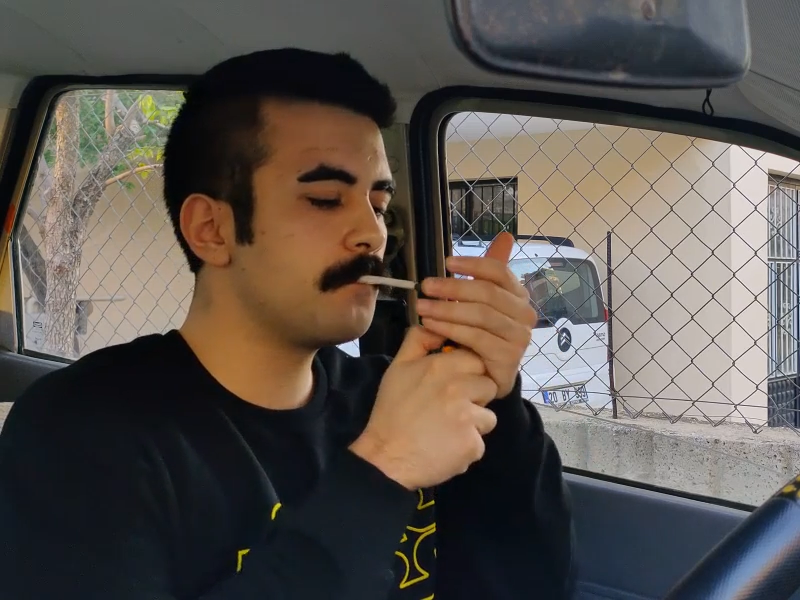sigara: (356, 273, 422, 293)
